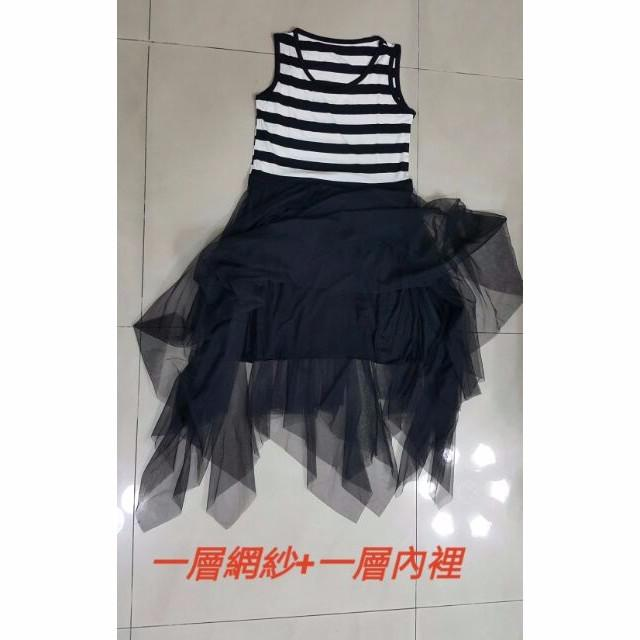Dresses: (141, 31, 525, 528)
